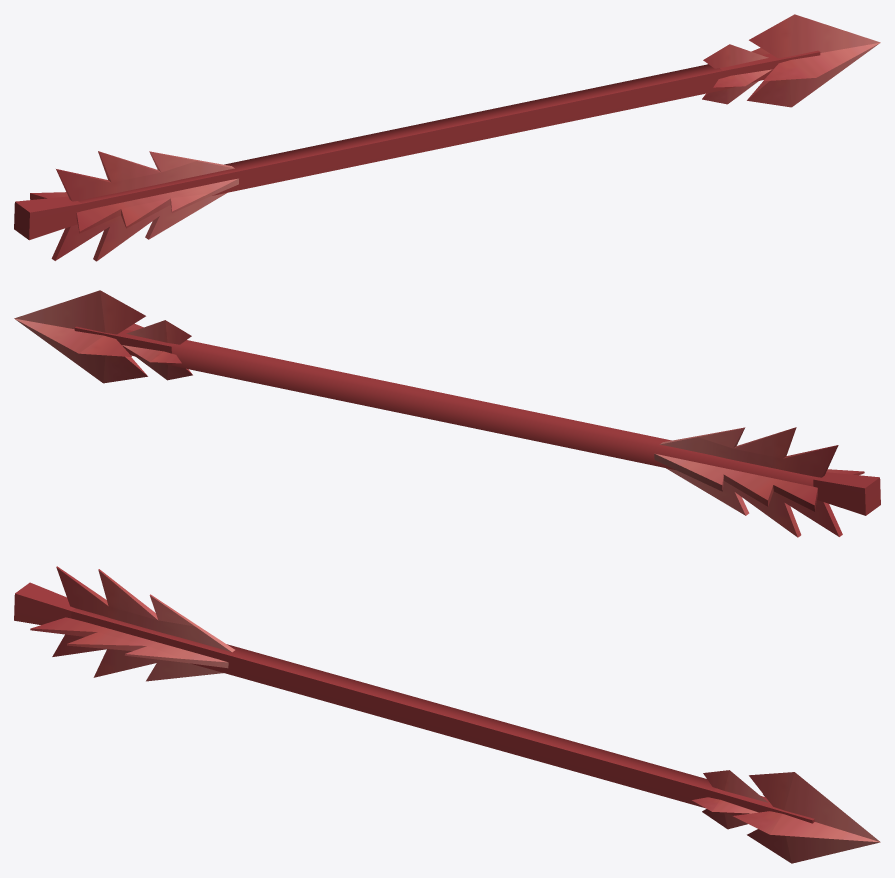
The model's file is arrowDruid.fbx.
The picture shows the model from 3 angles, top to bottom: view 1: azimuth 30°, elevation 25°; view 2: azimuth 150°, elevation 25°; view 3: azimuth 330°, elevation 25°; orthographic projection.
Parts seen in each view (by area): view 1: arrowDruid; view 2: arrowDruid; view 3: arrowDruid.
Part boxes in pixels (<box>): arrowDruid: <box>14,14,880,261</box>; arrowDruid: <box>14,290,880,537</box>; arrowDruid: <box>14,566,880,863</box>.
Bounding box in the file's own units: 1.47 × 0.2053 × 0.1775.
